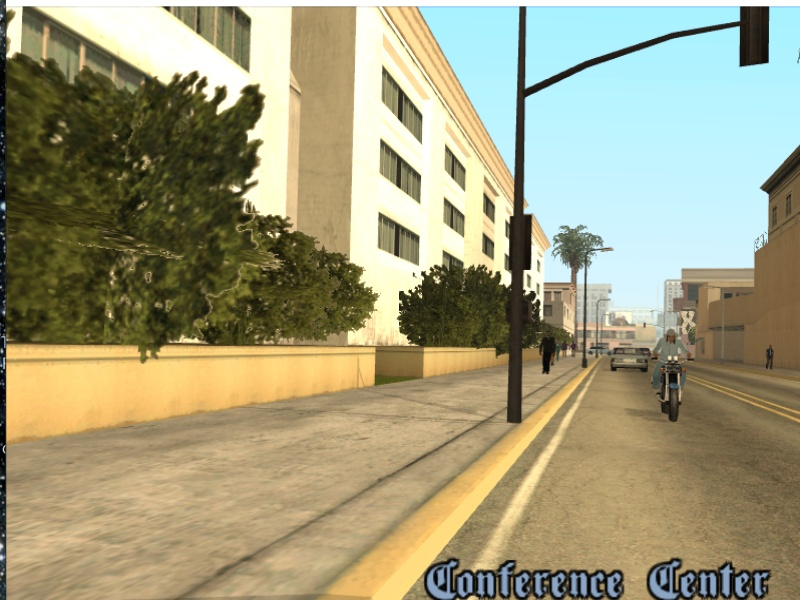person: (540, 331, 556, 373), (763, 345, 775, 372), (561, 341, 567, 357)
pole: (503, 11, 537, 435), (580, 258, 593, 369), (719, 290, 727, 361)
vehicle: (649, 328, 693, 425), (610, 346, 651, 374)
